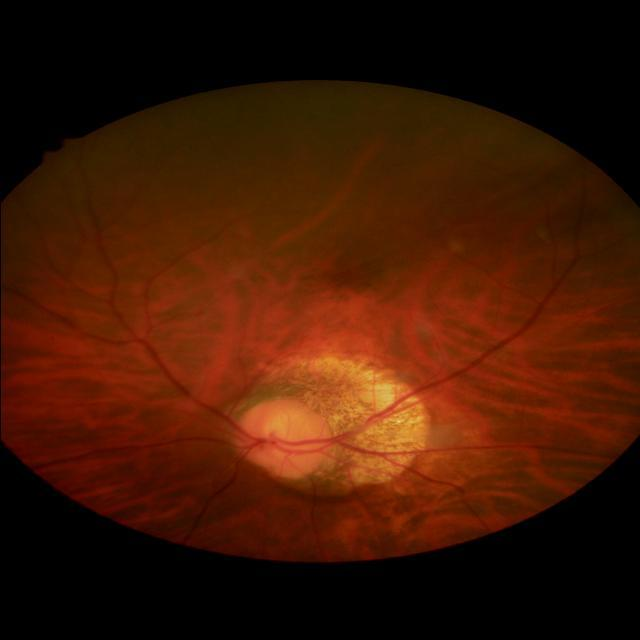cup: (262, 416, 314, 458)
disk: (235, 400, 327, 480)
